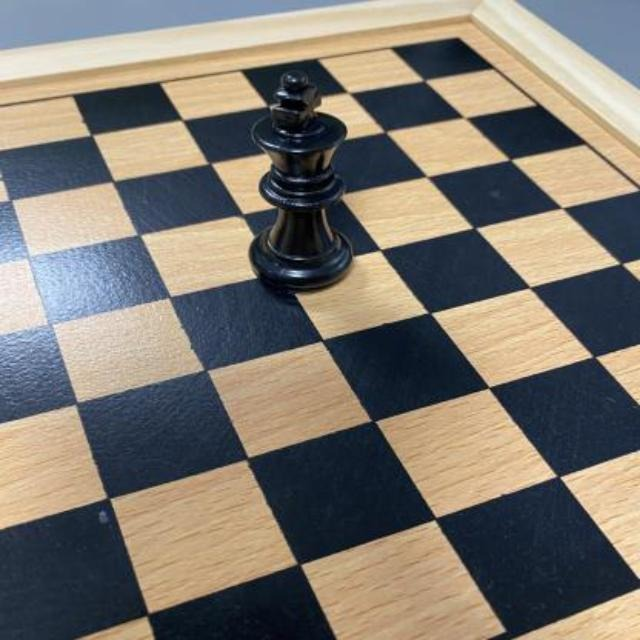black-king: (249, 72, 356, 292)
